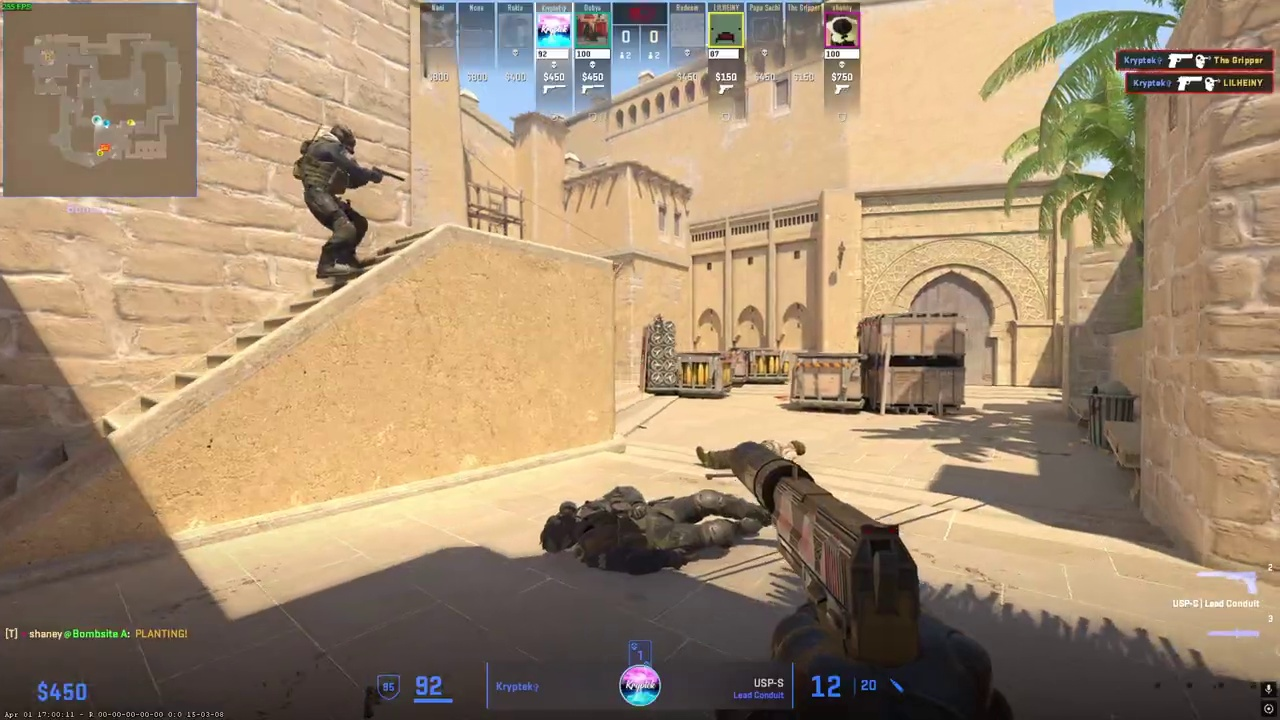CT: (301, 124, 376, 278)
